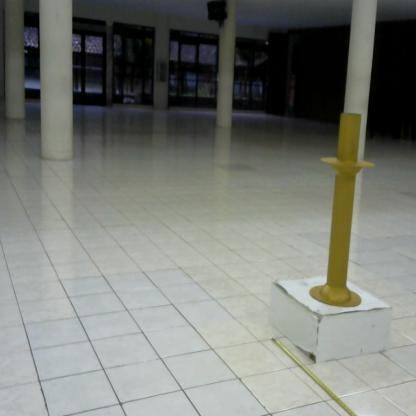pole: (307, 106, 374, 313)
